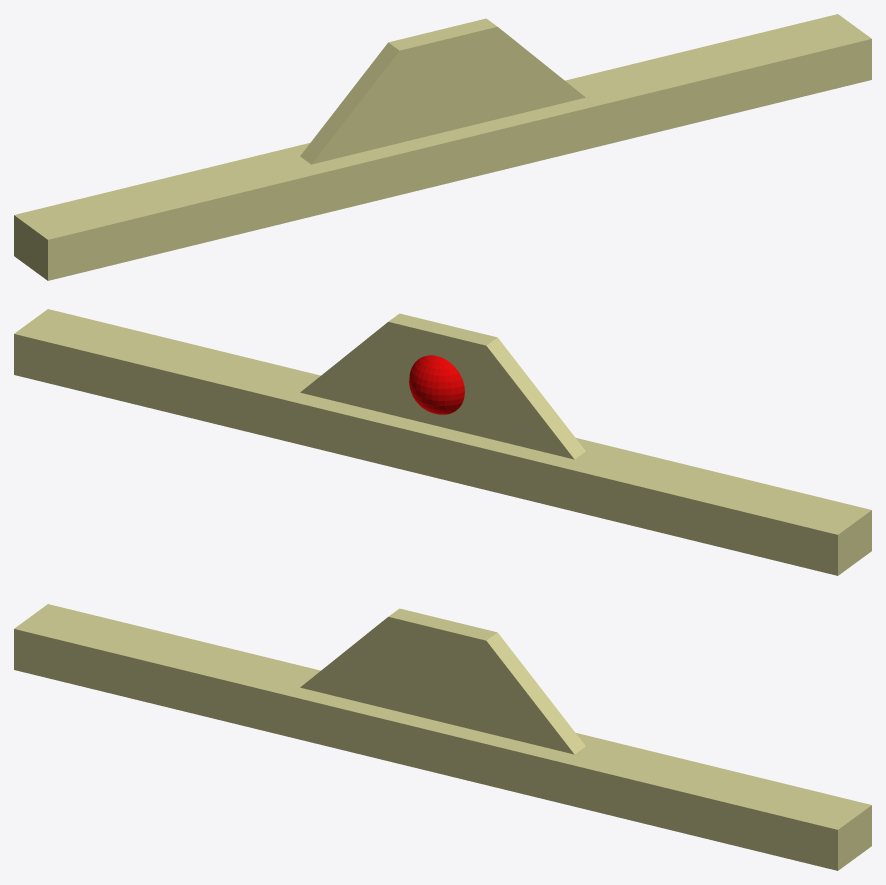
File: Slider_Deur.fbx
The picture shows the model from 3 angles, top to bottom: view 1: azimuth 30°, elevation 25°; view 2: azimuth 150°, elevation 25°; view 3: azimuth 330°, elevation 25°; orthographic projection.
Visible parts, largest first — view 1: Cube; view 2: Cube; view 3: Cube.
Boxes of the visible parts, <box> form: Cube: <box>14,14,871,280</box>; Cube: <box>14,309,871,575</box>; Cube: <box>14,604,871,870</box>.
Bounding box in the file's own units: 8.4 × 1.3 × 0.6.
